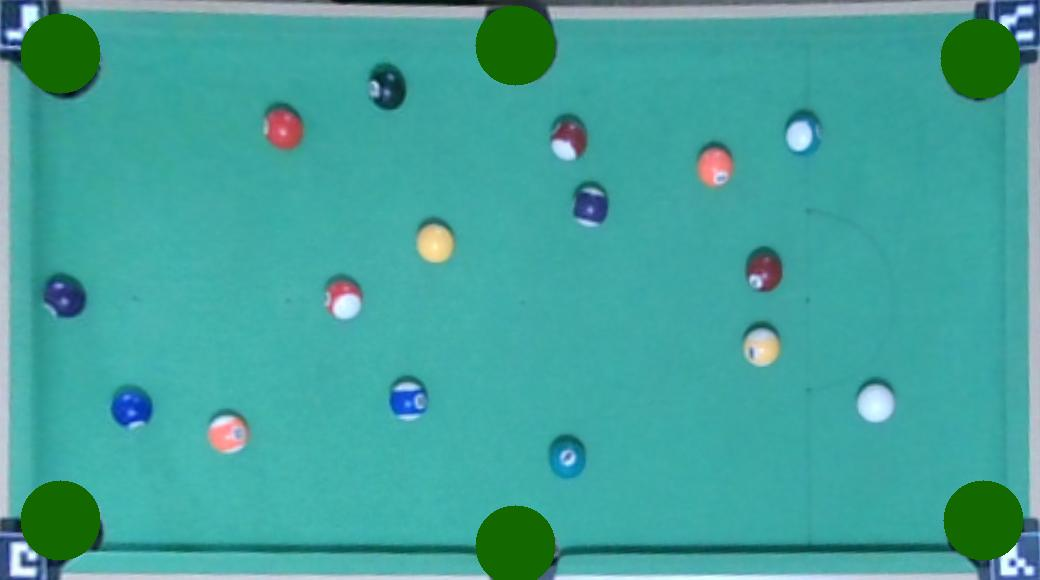Ball: (784, 114, 825, 160), (42, 274, 86, 316), (548, 117, 588, 162), (206, 415, 250, 455), (366, 65, 406, 109), (388, 380, 428, 422), (110, 390, 152, 430), (743, 249, 783, 291), (323, 281, 363, 321), (263, 108, 303, 148), (572, 185, 610, 227), (415, 224, 455, 262), (742, 328, 780, 366), (548, 440, 586, 478), (696, 148, 734, 186), (856, 385, 894, 422)
